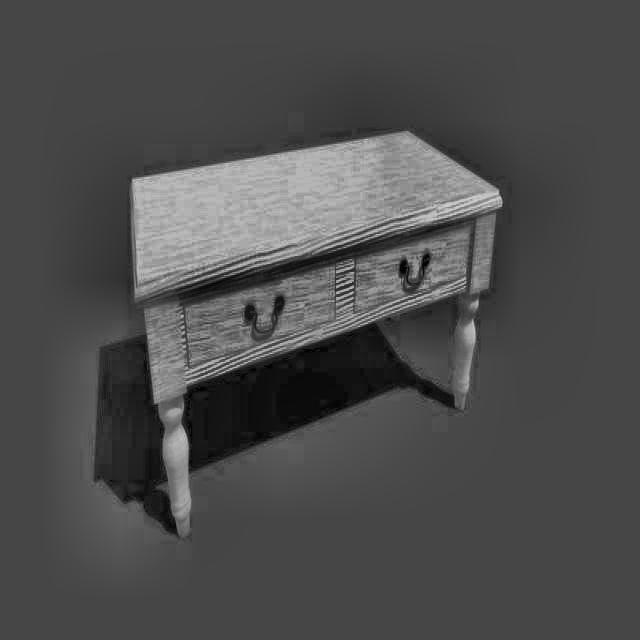mesa: (132, 131, 502, 539)
